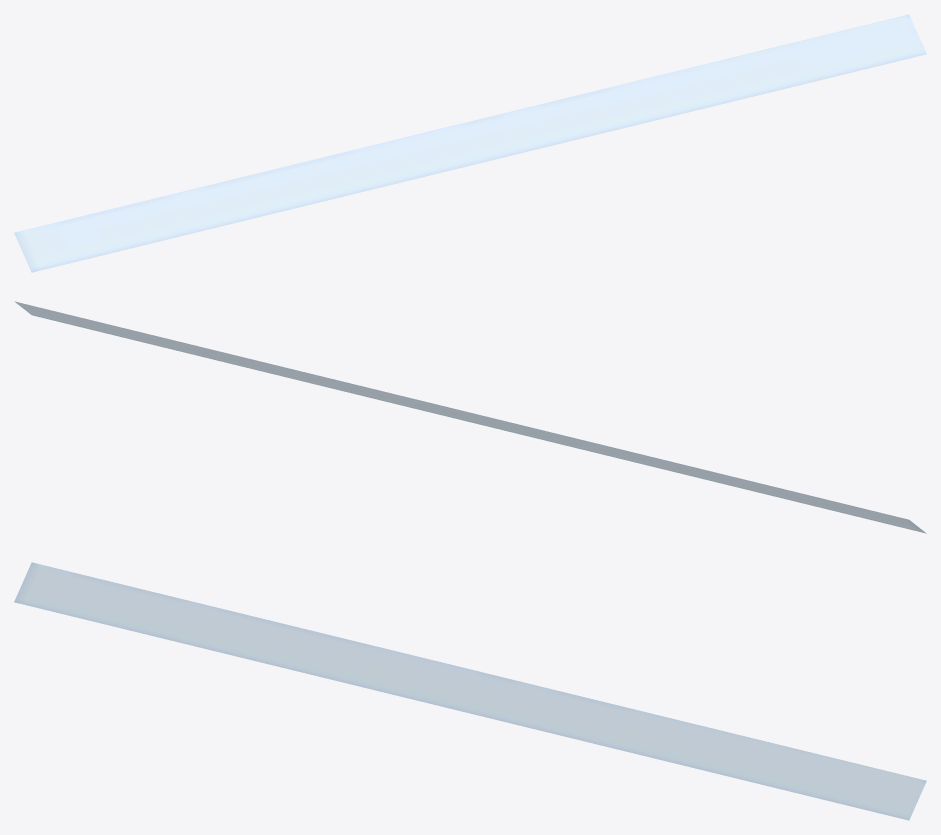
Rendered from pref_sce_081501_fog03_lv3.fbx.
3 renders of one model, top to bottom at view 1: azimuth 30°, elevation 25°; view 2: azimuth 150°, elevation 25°; view 3: azimuth 330°, elevation 25°, orthographic.
Parts seen in each view (by area): view 1: pref_sce_081501_fog03_lv3; view 2: pref_sce_081501_fog03_lv3; view 3: pref_sce_081501_fog03_lv3.
Boxes of the visible parts, x1=… form: pref_sce_081501_fog03_lv3: x1=14, y1=14, x2=926, y2=272; pref_sce_081501_fog03_lv3: x1=14, y1=301, x2=926, y2=533; pref_sce_081501_fog03_lv3: x1=14, y1=562, x2=926, y2=820.
Bounding box in the file's own units: 146 × 4.22 × 5.02.
1 material, 1 textured.
